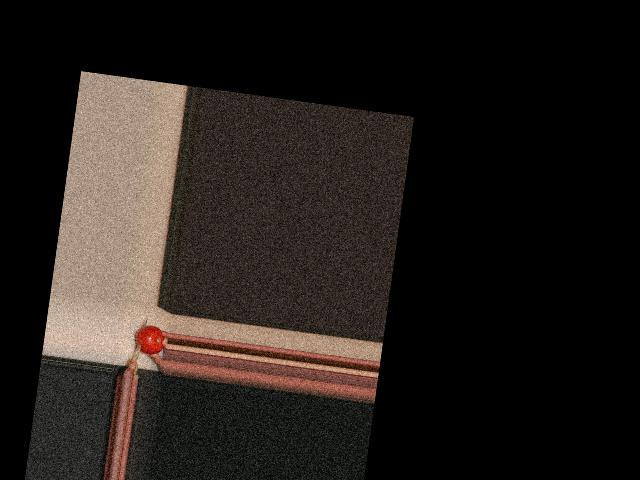tomato: (133, 323, 166, 355)
